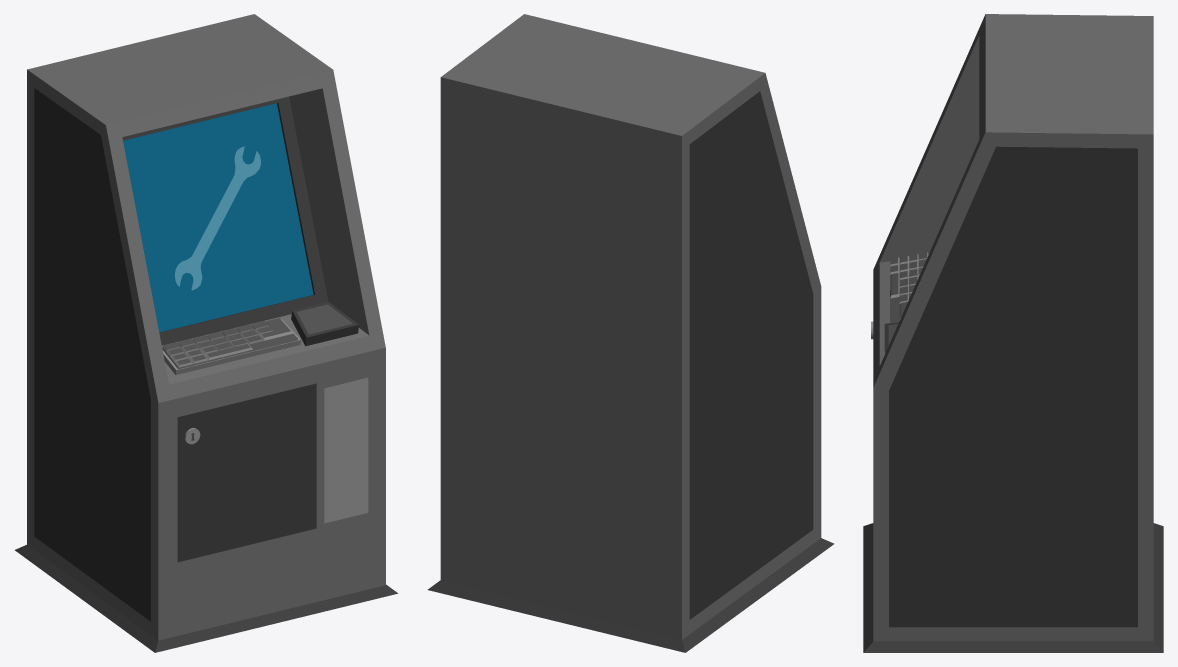
Rendered from atm.fbx.
The picture shows the model from 3 angles, left to right: view 1: azimuth 30°, elevation 25°; view 2: azimuth 150°, elevation 25°; view 3: azimuth 270°, elevation 25°; orthographic projection. The views are drawn at different scales.
Visible parts, largest first — view 1: Cylinder.001, Cylinder.003, Cylinder.002; view 2: Cylinder.001; view 3: Cylinder.001, Cylinder.002.
Part boxes in pixels (x1,y1,x2,y2): Cylinder.001: [15, 14, 397, 652]; Cylinder.003: [123, 103, 313, 332]; Cylinder.002: [162, 318, 297, 369]; Cylinder.001: [427, 14, 834, 652]; Cylinder.001: [863, 14, 1163, 652]; Cylinder.002: [890, 251, 928, 322].
Bounding box in the file's own units: 214 × 407 × 214.
